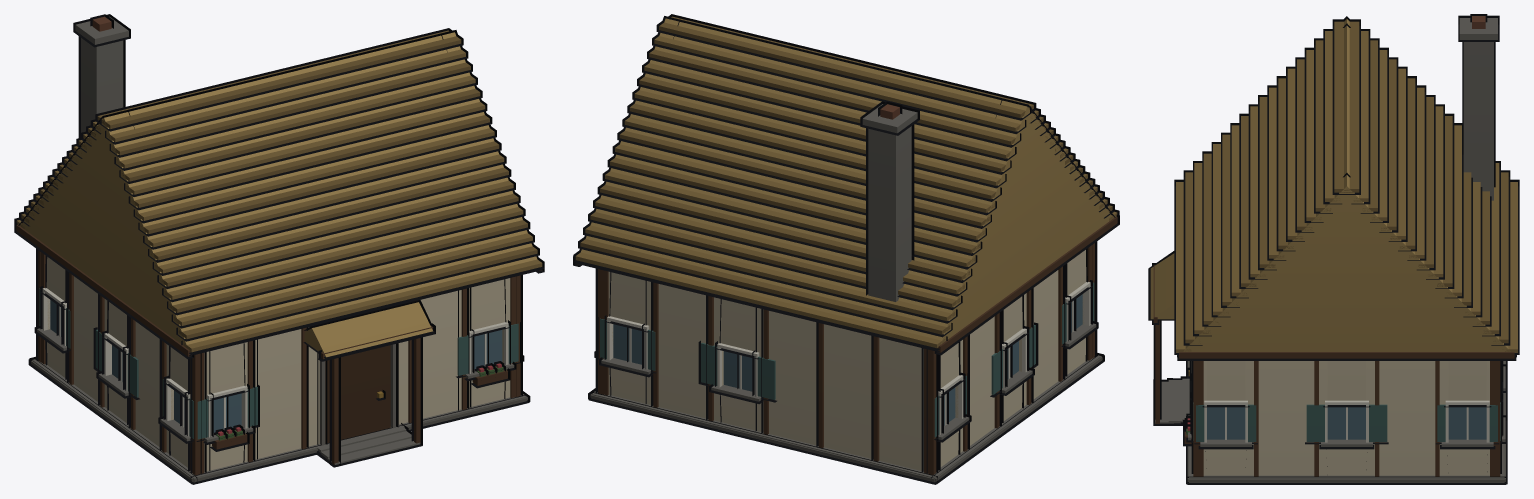
File: town_cottage_shut.glb
The picture shows the model from 3 angles, left to right: view 1: azimuth 30°, elevation 25°; view 2: azimuth 150°, elevation 25°; view 3: azimuth 270°, elevation 25°; orthographic projection. The views are drawn at different scales.
Parts seen in each view (by area): view 1: prop; view 2: prop; view 3: prop.
Part boxes in pixels (box(x1,y1,x2,y2)): prop: box(14, 14, 544, 484); prop: box(573, 14, 1119, 484); prop: box(1148, 14, 1519, 484).
Bounding box in the file's own units: 10.02 × 9.23 × 9.22.
